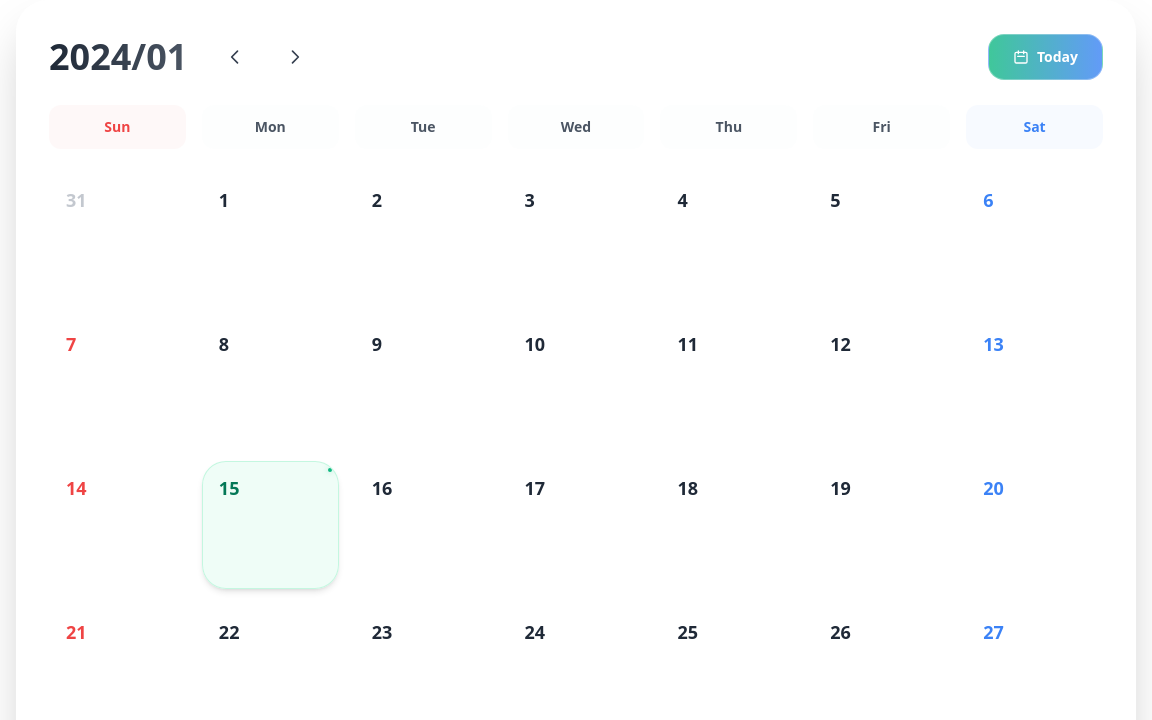
Test: Calendar.vue › ナビゲーション機能 › 前の月ボタンが動作する
Click the 1st button: (235, 57) [211,33,259,81]
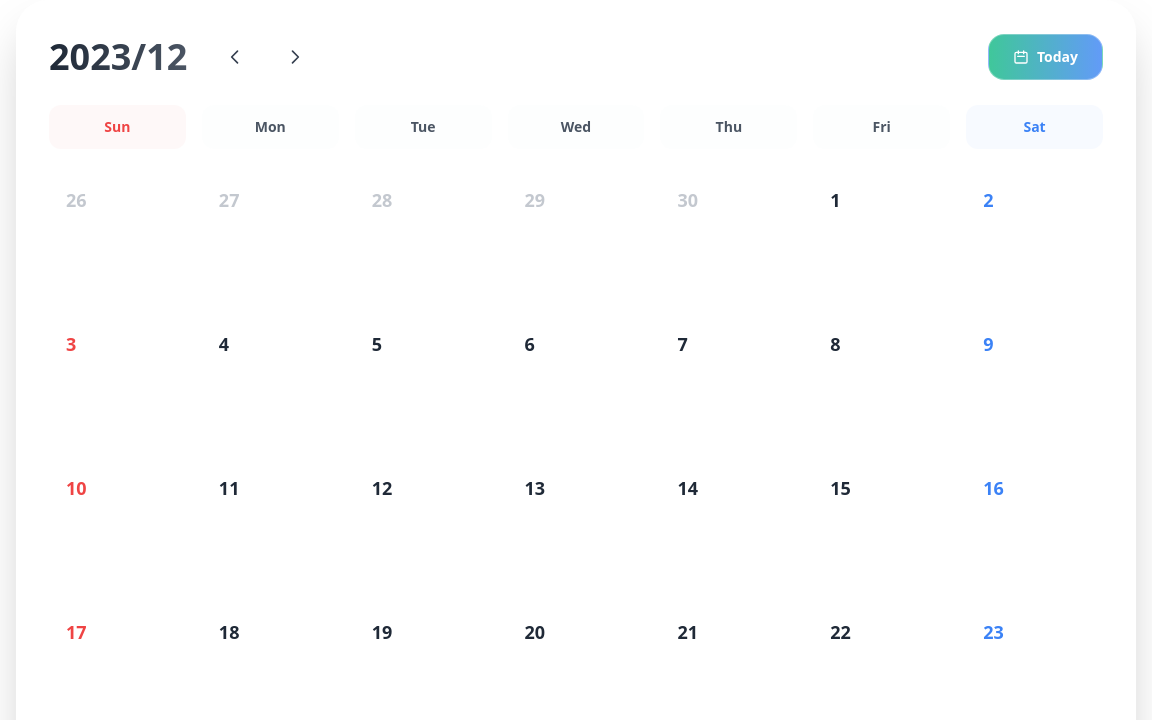
Expected: the text "2023/12" is shown, [49,37,187,77]
